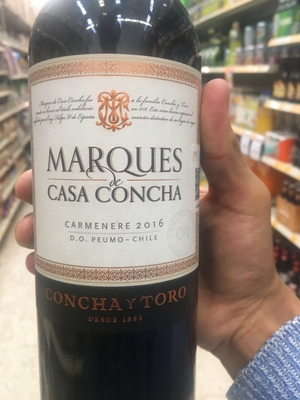marques de casa concha carmenere: (22, 4, 217, 400)
